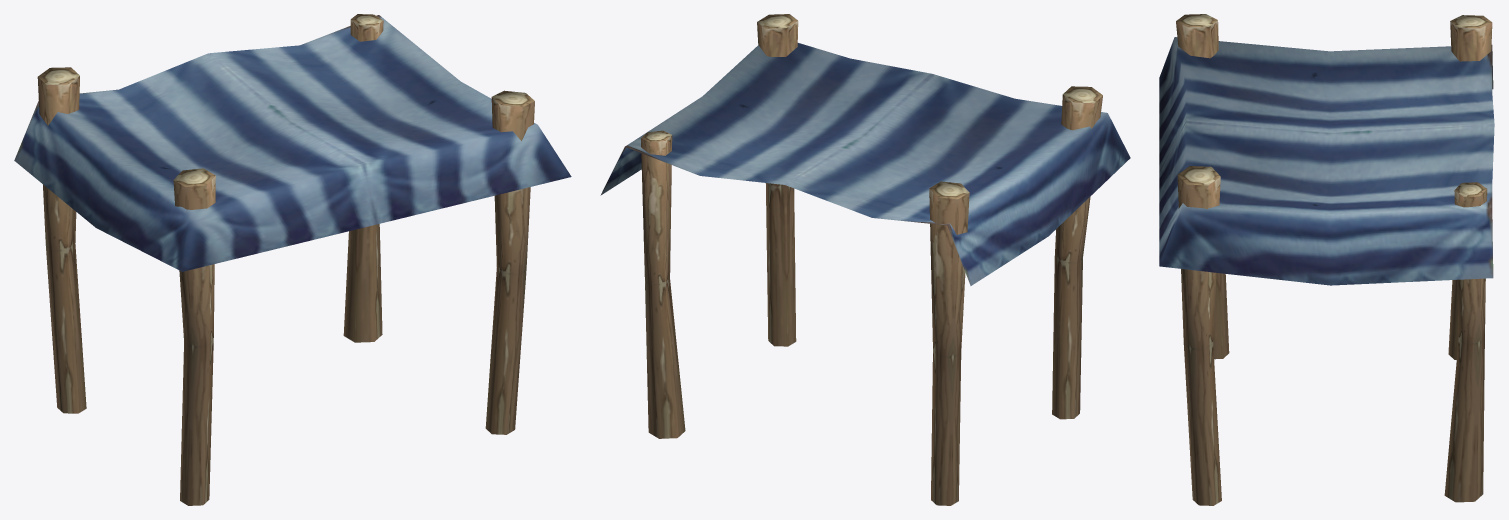
The model's file is Map_06_grocery02.FBX.
3 views of the same model, side by side, from view 1: azimuth 30°, elevation 25°; view 2: azimuth 150°, elevation 25°; view 3: azimuth 270°, elevation 25° (orthographic). The views are drawn at different scales.
Visible parts, largest first — view 1: Map_06_grocery02; view 2: Map_06_grocery02; view 3: Map_06_grocery02.
Part boxes in pixels (x1,y1,x2,y2): Map_06_grocery02: (14,14,571,505); Map_06_grocery02: (600,14,1130,505); Map_06_grocery02: (1159,14,1494,505).
Bounding box in the file's own units: 364 × 273 × 297.
